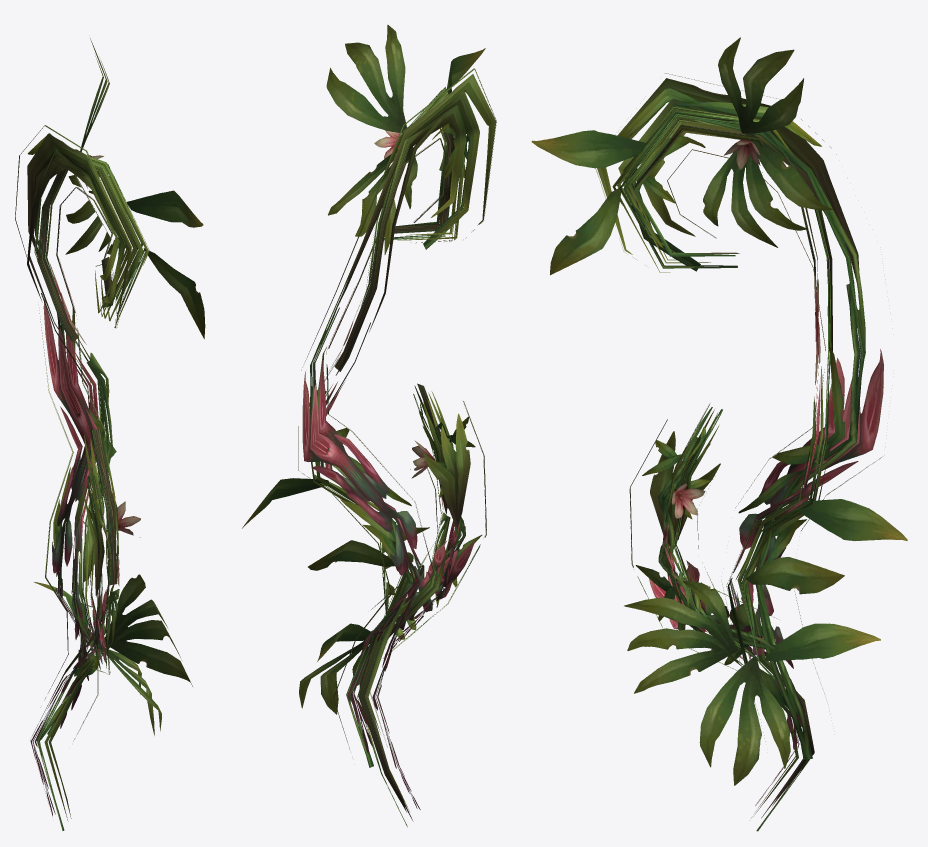
3 views of the same model, side by side, from view 1: azimuth 30°, elevation 25°; view 2: azimuth 150°, elevation 25°; view 3: azimuth 270°, elevation 25° (orthographic). The views are drawn at different scales.
Size of the model in its own units: 1.99 by 12.88 by 5.43.
1 material, 1 textured.
